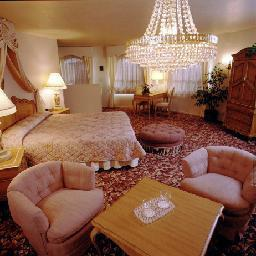Cama: (18, 112, 135, 157)
